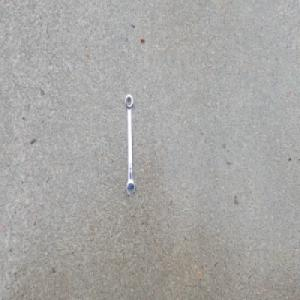Wrench: (124, 92, 136, 196)
